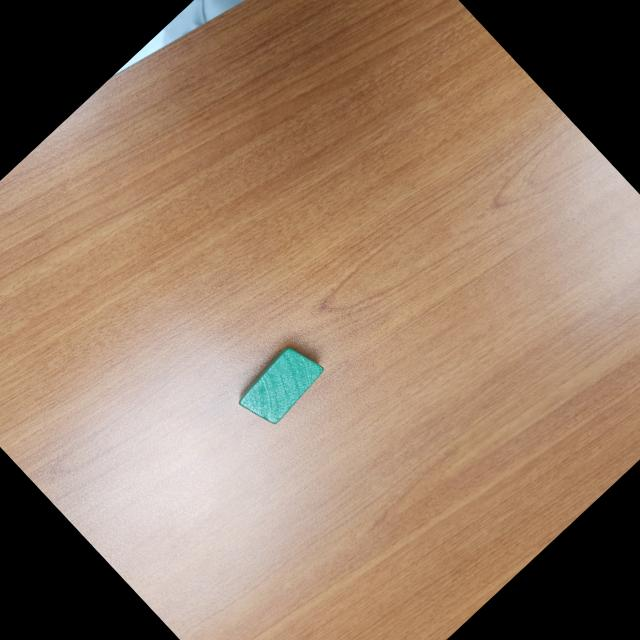green: (231, 339, 327, 433)
